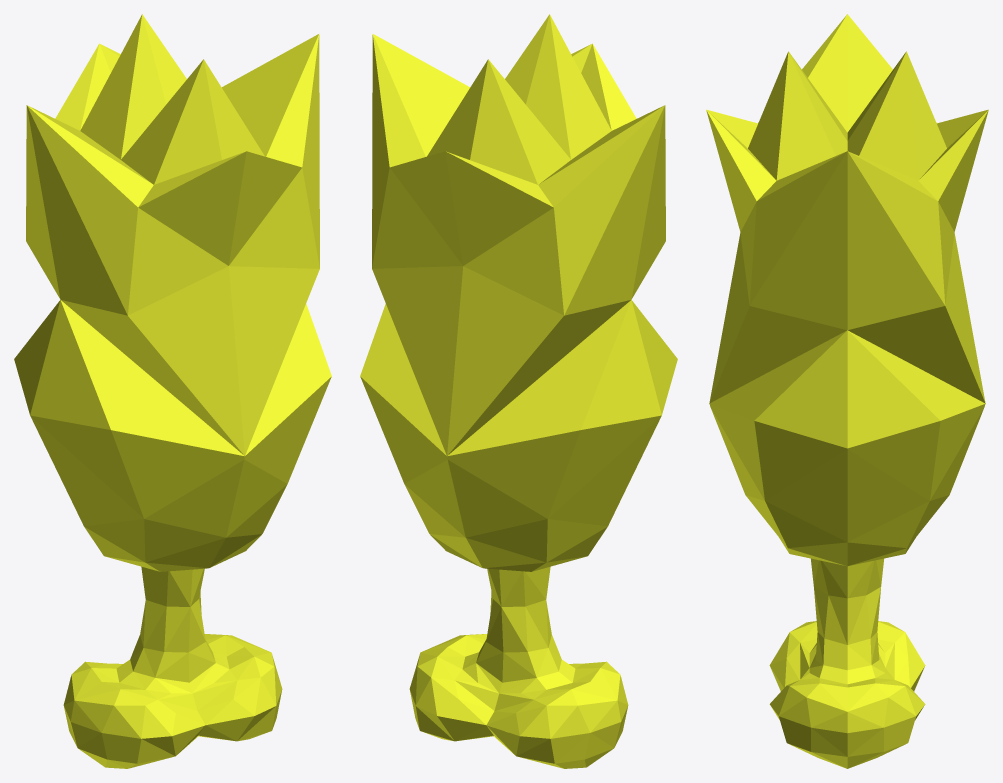
File: WolfMeat.fbx
3 renders of one model, left to right at view 1: azimuth 30°, elevation 25°; view 2: azimuth 150°, elevation 25°; view 3: azimuth 270°, elevation 25°, orthographic. The views are drawn at different scales.
Visible parts, largest first — view 1: Box001; view 2: Box001; view 3: Box001.
Boxes of the visible parts, bbox=[...] form: Box001: bbox=[14, 14, 331, 768]; Box001: bbox=[360, 14, 677, 768]; Box001: bbox=[706, 14, 988, 768].
Bounding box in the file's own units: 14.16 × 33.04 × 12.34.
